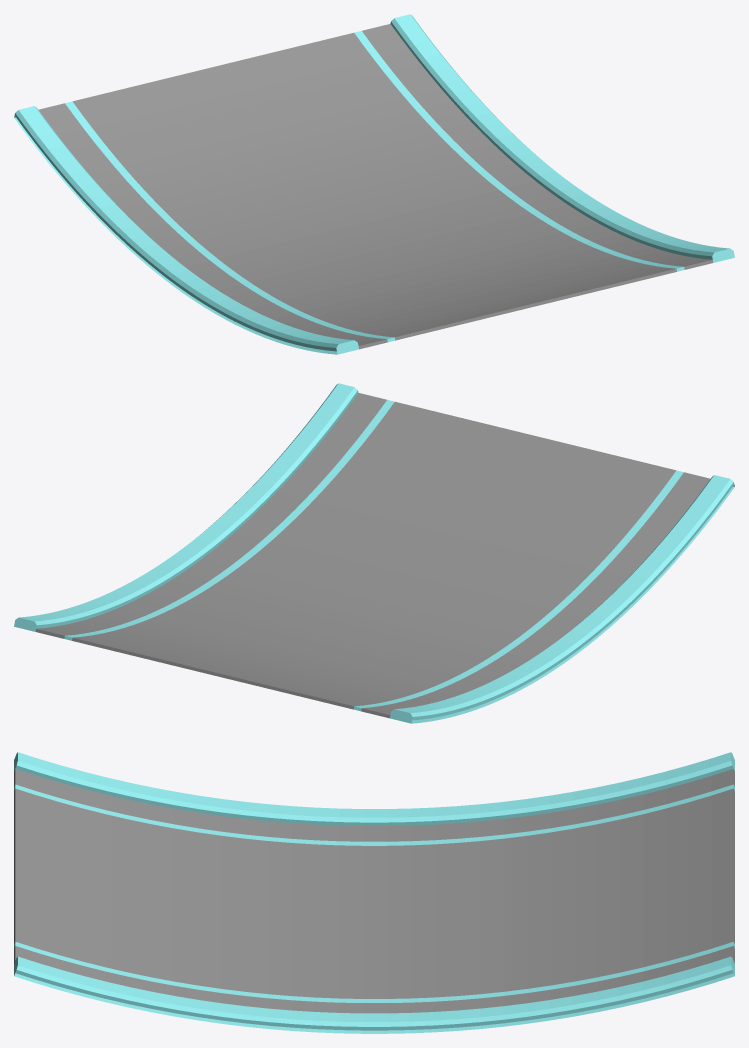
File: NEW RAMP 40@.FBX
3 views of the same model, one above another, from view 1: azimuth 30°, elevation 25°; view 2: azimuth 150°, elevation 25°; view 3: azimuth 270°, elevation 25° (orthographic). The views are drawn at different scales.
Parts seen in each view (by area): view 1: Plane002; view 2: Plane002; view 3: Plane002.
Part boxes in pixels (x1,y1,x2,y2): Plane002: (14, 14, 734, 354); Plane002: (14, 383, 734, 723); Plane002: (14, 752, 734, 1033).
Size of the model in its own units: 0.0075 by 0.00109 by 0.0106.
